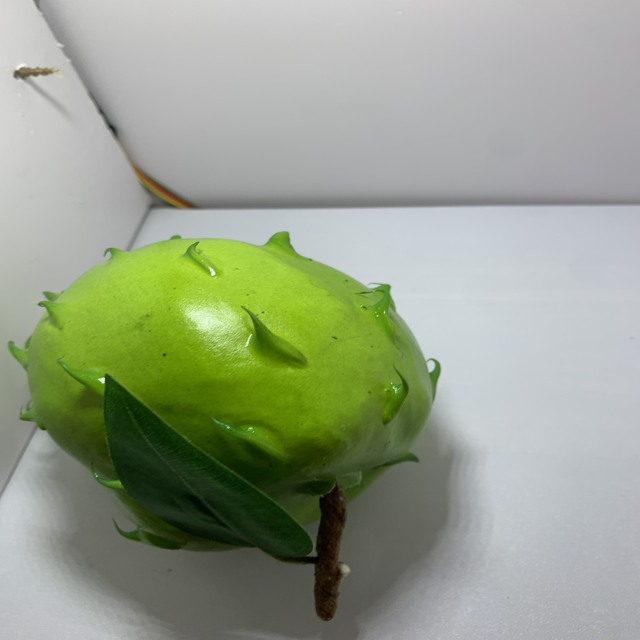Man cau: (0, 234, 443, 556)
